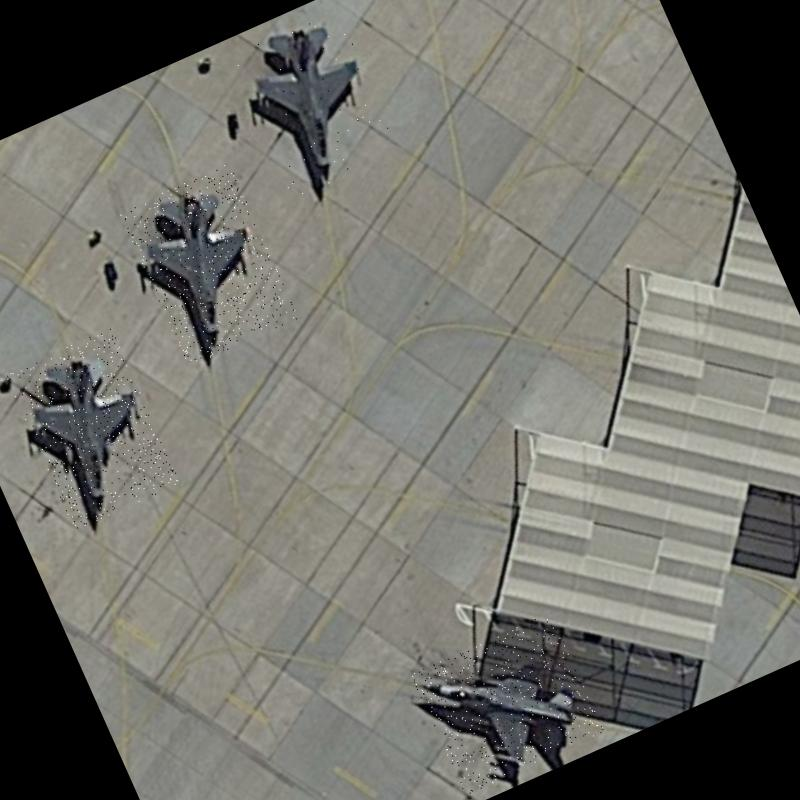A5: (119, 162, 299, 368), (225, 0, 405, 204), (411, 612, 606, 796), (5, 328, 181, 530)
